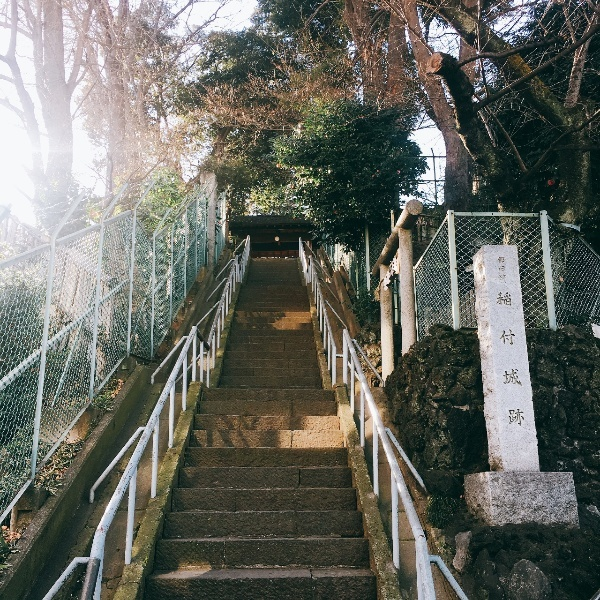text: (497, 291, 512, 428), (513, 291, 527, 428), (497, 256, 512, 281)
